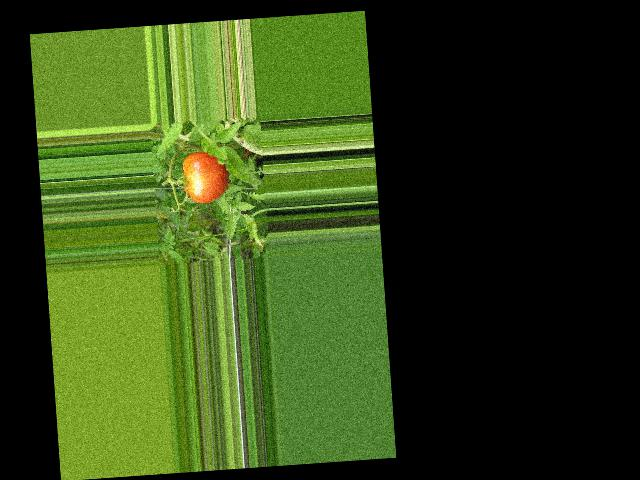tomato: (181, 150, 230, 204)
